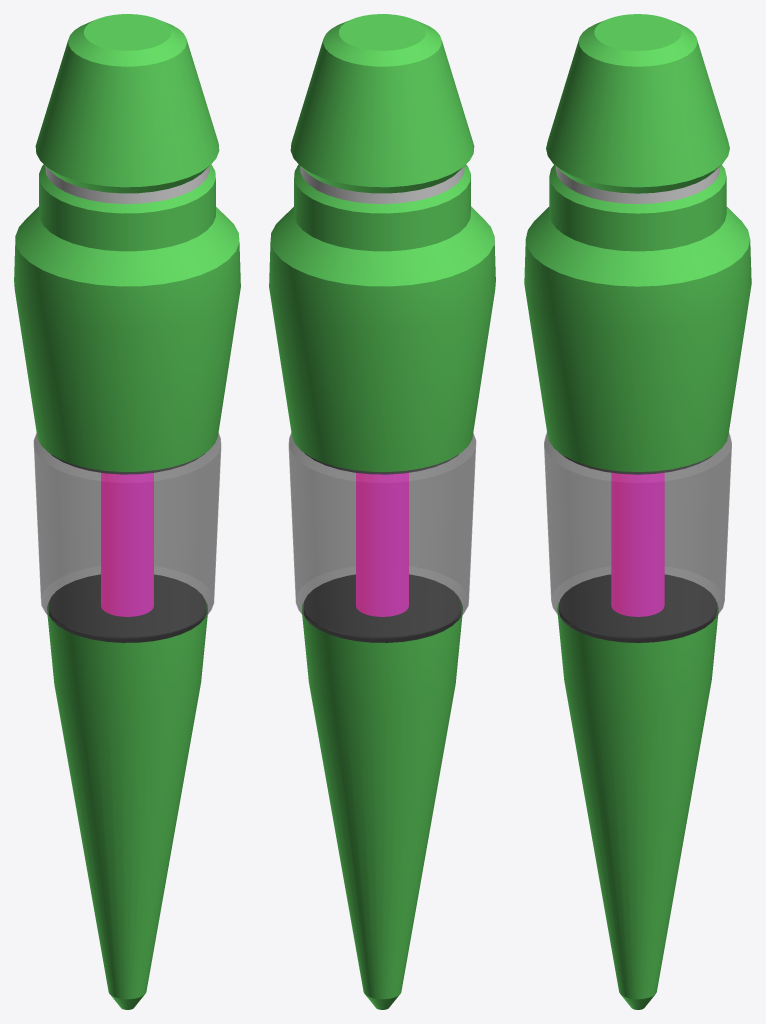
The model's file is laser.gltf.
The picture shows the model from 3 angles, left to right: view 1: azimuth 30°, elevation 25°; view 2: azimuth 150°, elevation 25°; view 3: azimuth 270°, elevation 25°; orthographic projection.
Visible parts, largest first — view 1: Bullet, MysteryChamber; view 2: Bullet, MysteryChamber; view 3: Bullet, MysteryChamber.
Boxes of the visible parts, x1,y1,x2,y2 form: Bullet: [14, 14, 240, 1009]; MysteryChamber: [48, 453, 206, 642]; Bullet: [269, 14, 495, 1009]; MysteryChamber: [303, 453, 461, 642]; Bullet: [524, 14, 751, 1009]; MysteryChamber: [559, 455, 716, 642].
Size of the model in its own units: 2.48 by 11.71 by 2.48.
